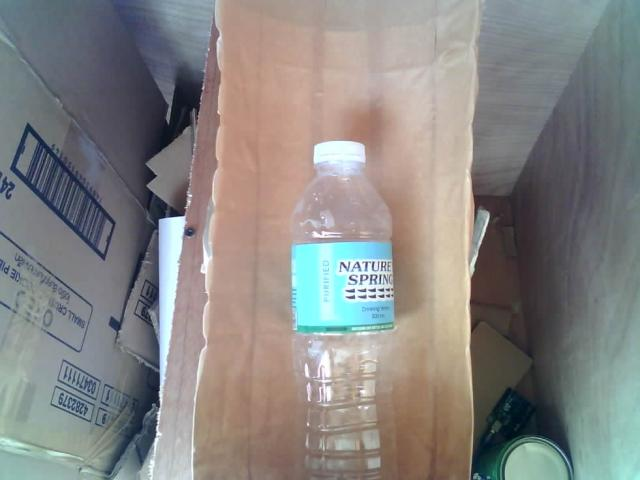small_bottle: (278, 133, 411, 480)
